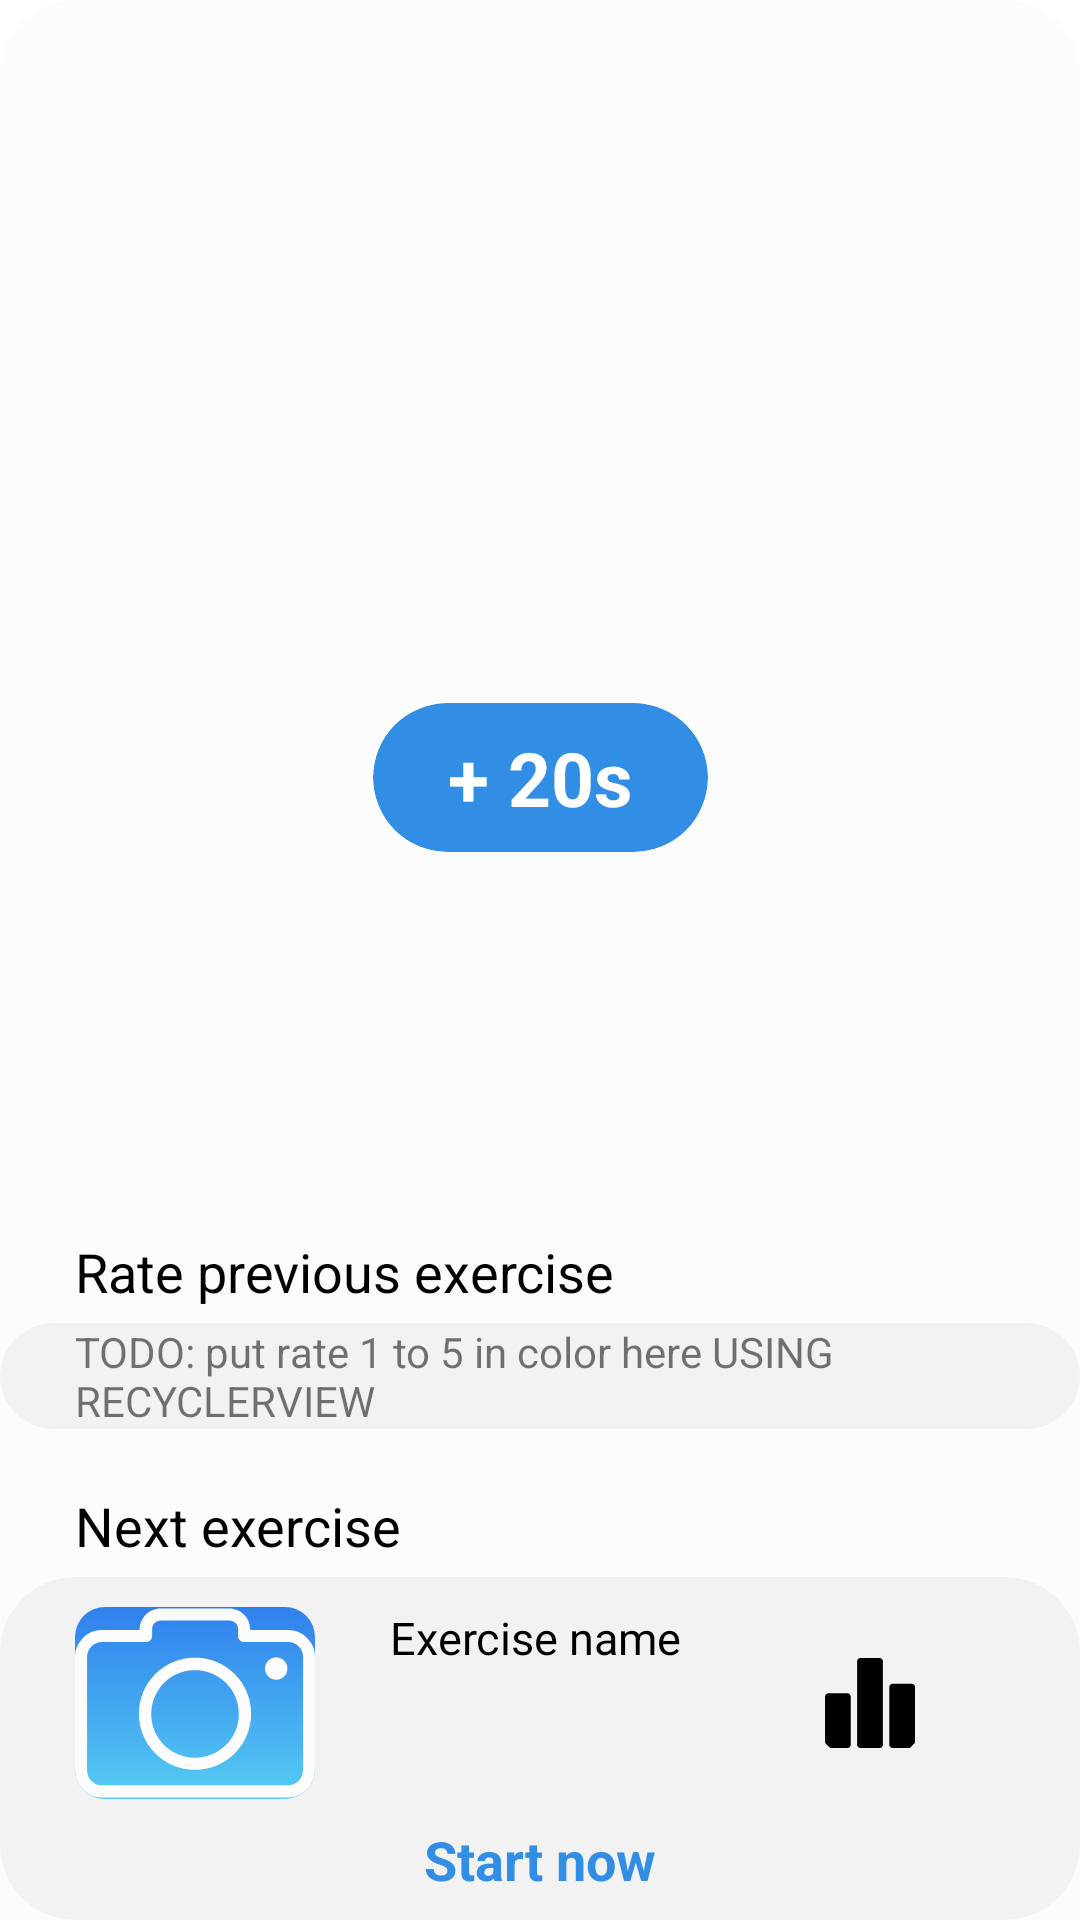

Icon click points for this 1080px x 1920px phone screenshot, format (x,y):
camera: (195,1703)
statistics: (870,1703)
